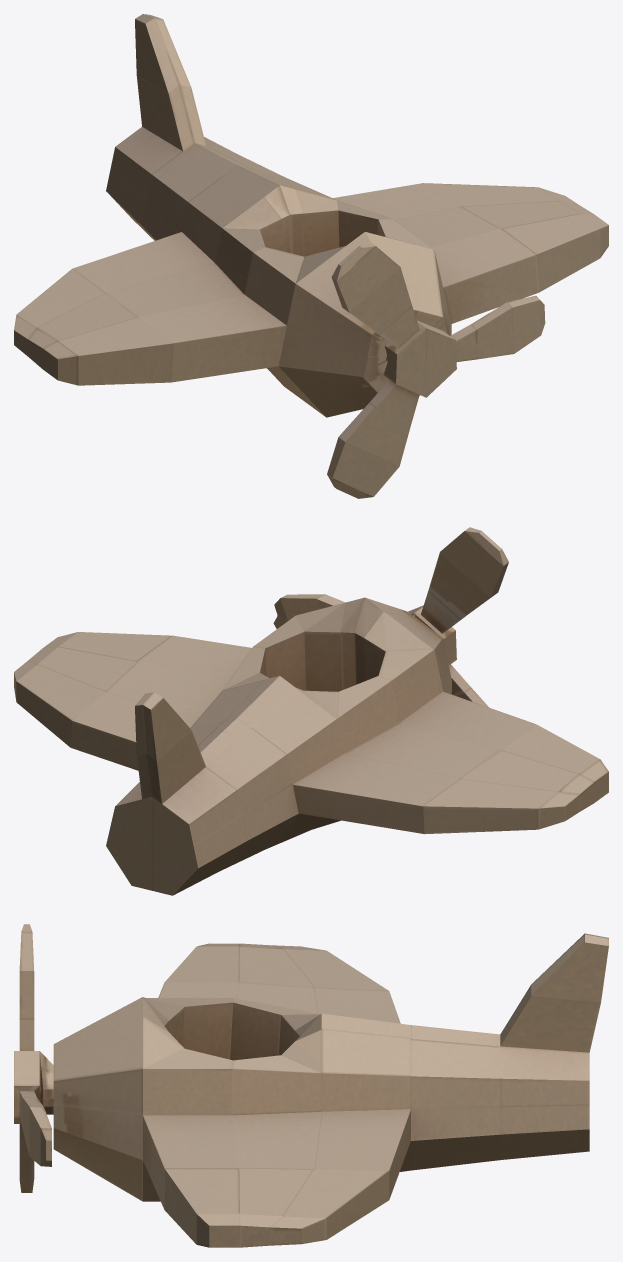
The picture shows the model from 3 angles, top to bottom: view 1: azimuth 30°, elevation 25°; view 2: azimuth 150°, elevation 25°; view 3: azimuth 270°, elevation 25°; orthographic projection. The views are drawn at different scales.
Visible parts, largest first — view 1: Cylinder.001; view 2: Cylinder.001; view 3: Cylinder.001.
Boxes of the visible parts, left/top/right/bottom form: Cylinder.001: left=14, top=14, right=608, bottom=498; Cylinder.001: left=14, top=527, right=608, bottom=895; Cylinder.001: left=14, top=924, right=608, bottom=1247.
Size of the model in its own units: 0.3705 by 0.3301 by 0.1737.
Materials: 1 (1 with a texture image).
